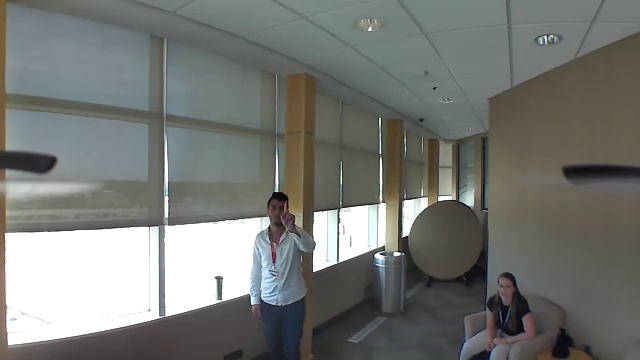up: (276, 196, 300, 229)
